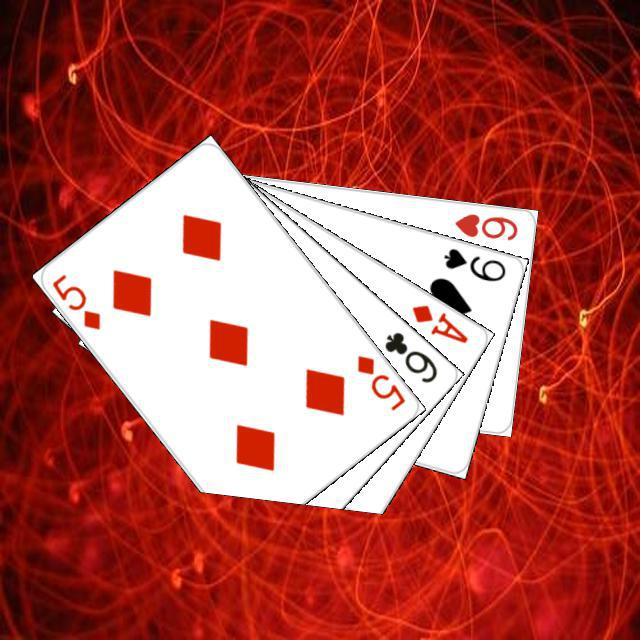5d: (351, 350, 407, 413), (47, 269, 103, 332)
6c: (379, 327, 440, 385)
6h: (450, 208, 520, 242)
9s: (439, 243, 508, 284)
Ad: (407, 299, 470, 346)
